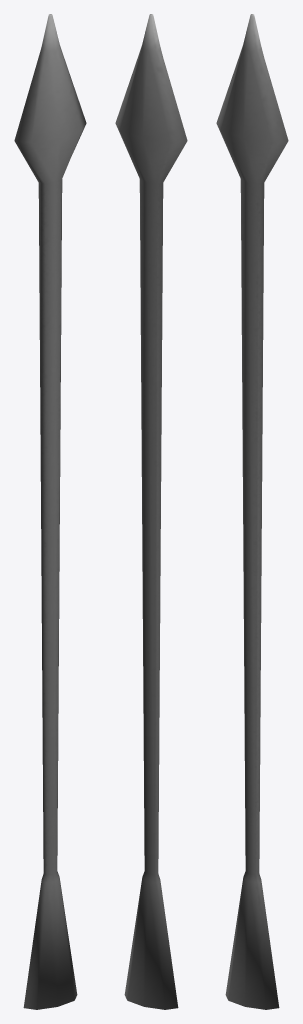
Rendered from WP_Archer_Arrow_Projectile.gltf.
3 views of the same model, side by side, from view 1: azimuth 30°, elevation 25°; view 2: azimuth 150°, elevation 25°; view 3: azimuth 330°, elevation 25° (orthographic).
Parts seen in each view (by area): view 1: WP_EnemyArcher_Projectile_Arrow_LP; view 2: WP_EnemyArcher_Projectile_Arrow_LP; view 3: WP_EnemyArcher_Projectile_Arrow_LP.
Part boxes in pixels (x1,y1,x2,y2): WP_EnemyArcher_Projectile_Arrow_LP: (14, 14, 86, 1009); WP_EnemyArcher_Projectile_Arrow_LP: (115, 14, 187, 1009); WP_EnemyArcher_Projectile_Arrow_LP: (216, 14, 288, 1009).
Size of the model in its own units: 0.07 by 0.9144 by 0.03.
1 material, 1 textured.
